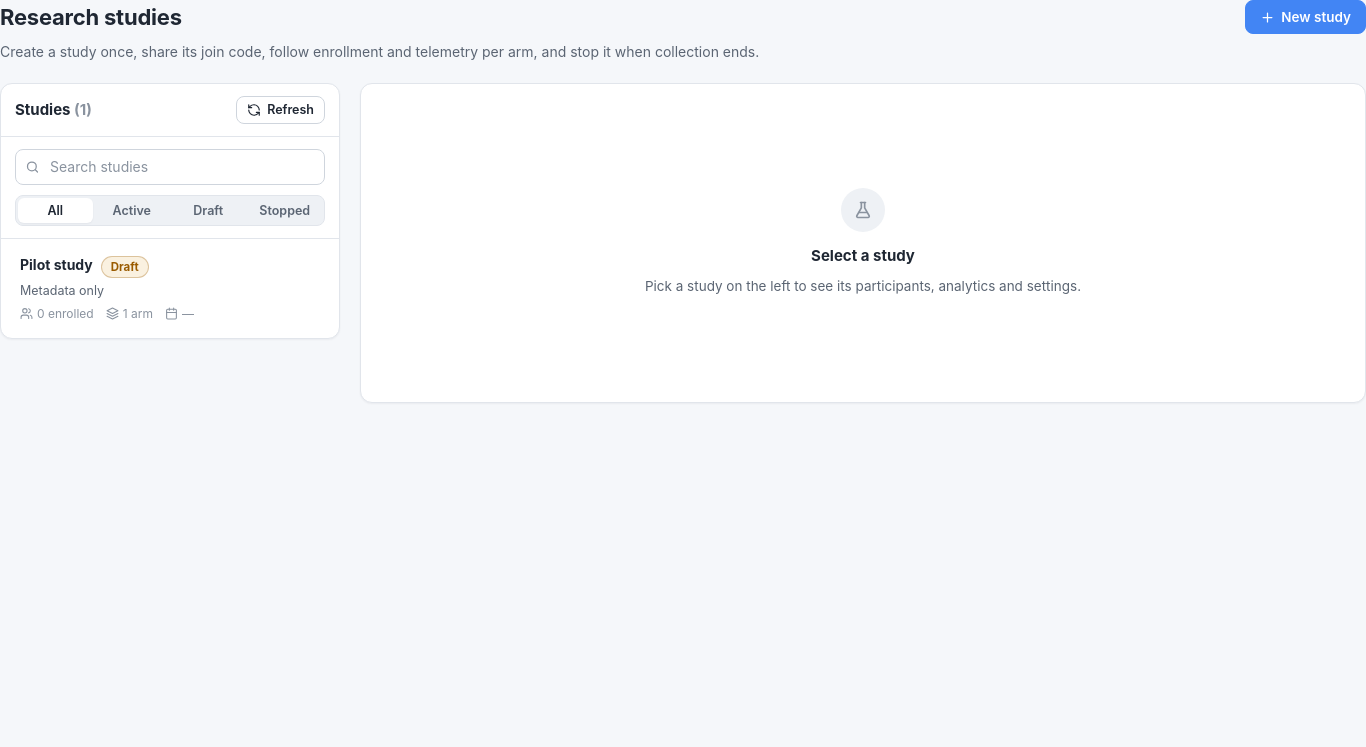
Test case: an arm filter that matches nobody still names the arm
Click the text "Pilot study" at (56, 265), box [20, 256, 93, 275]
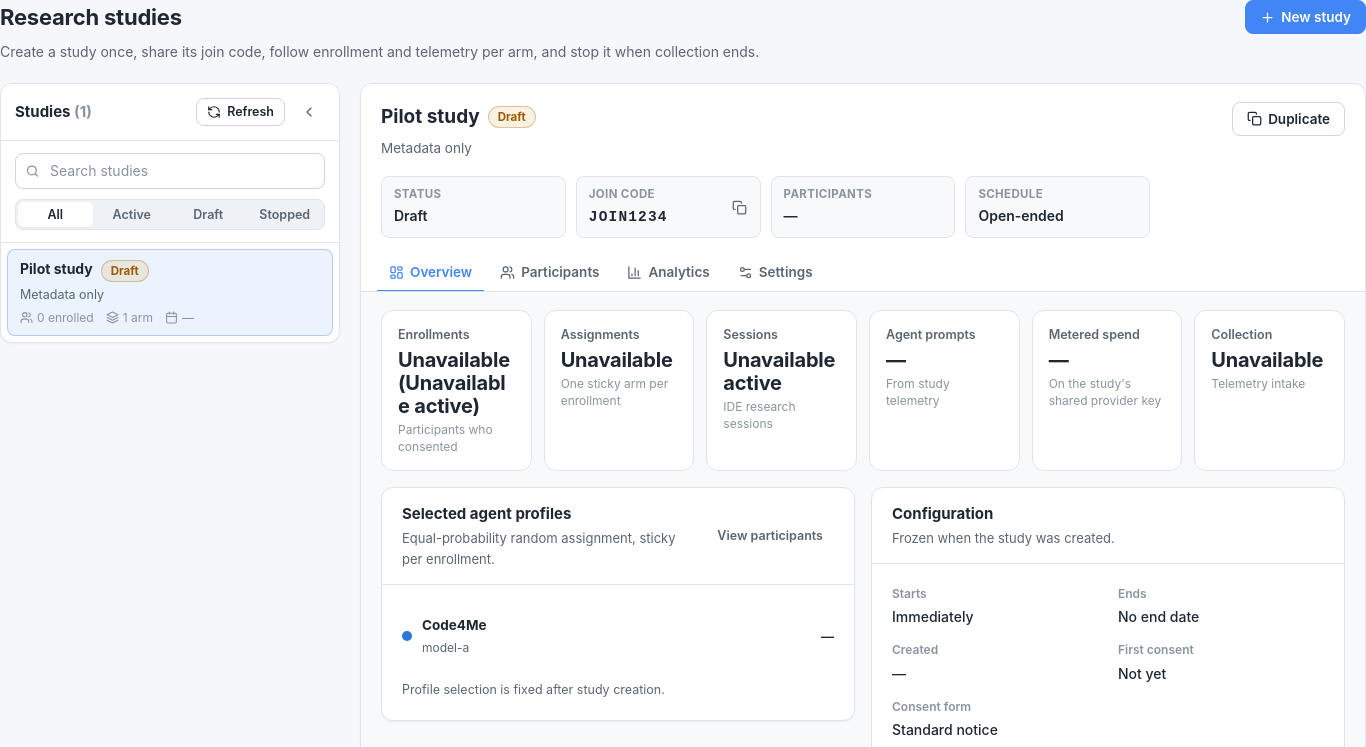
Click the tab "Analytics" at (669, 273), box [616, 254, 722, 292]
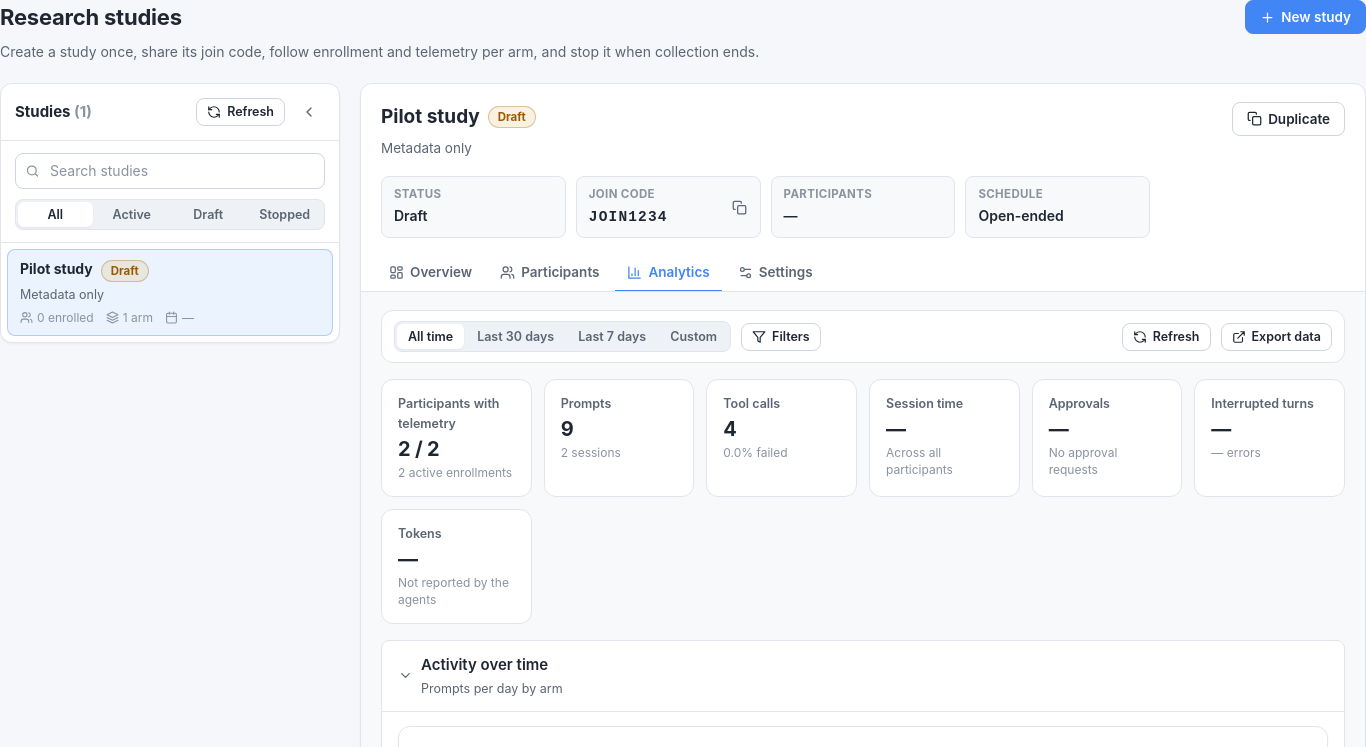
Click the heading "Filters" at (781, 337), box [741, 323, 821, 351]
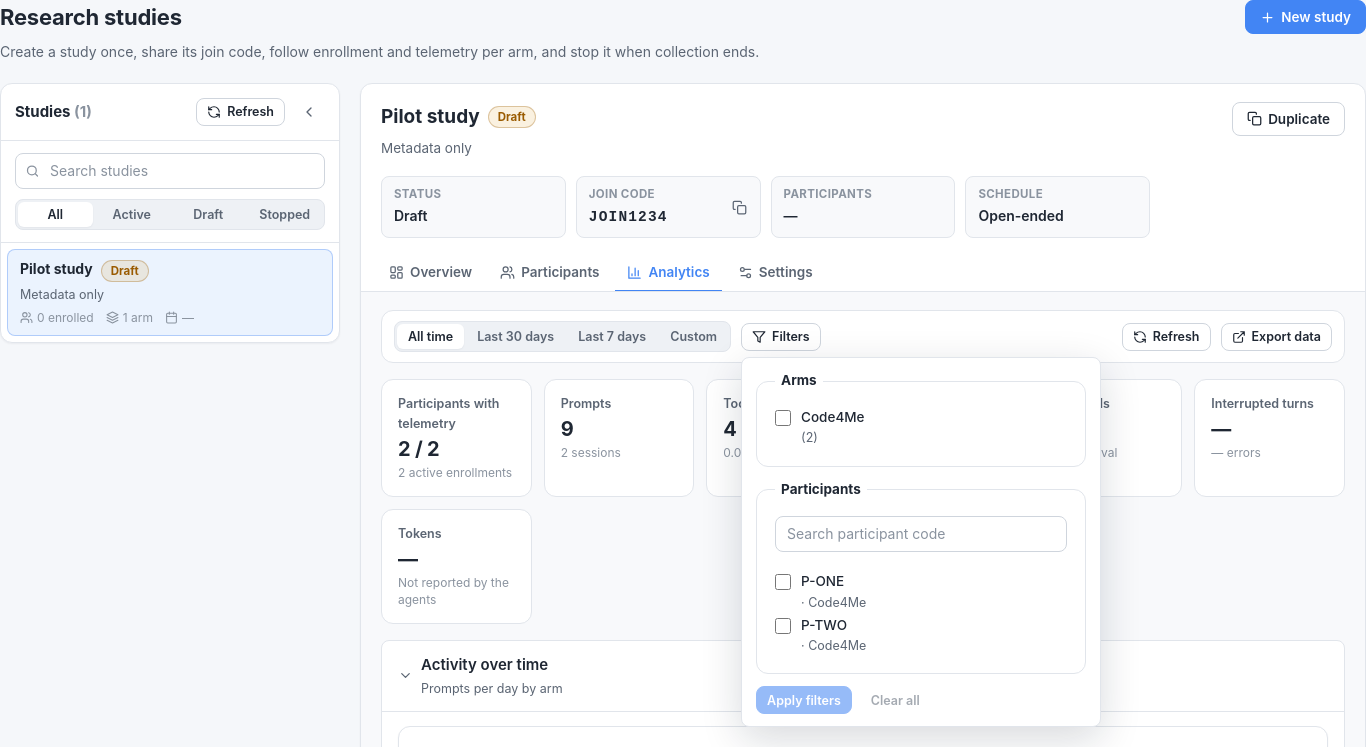
Click the checkbox labelled "Code4Me (2)" at (783, 418), box [775, 410, 791, 426]
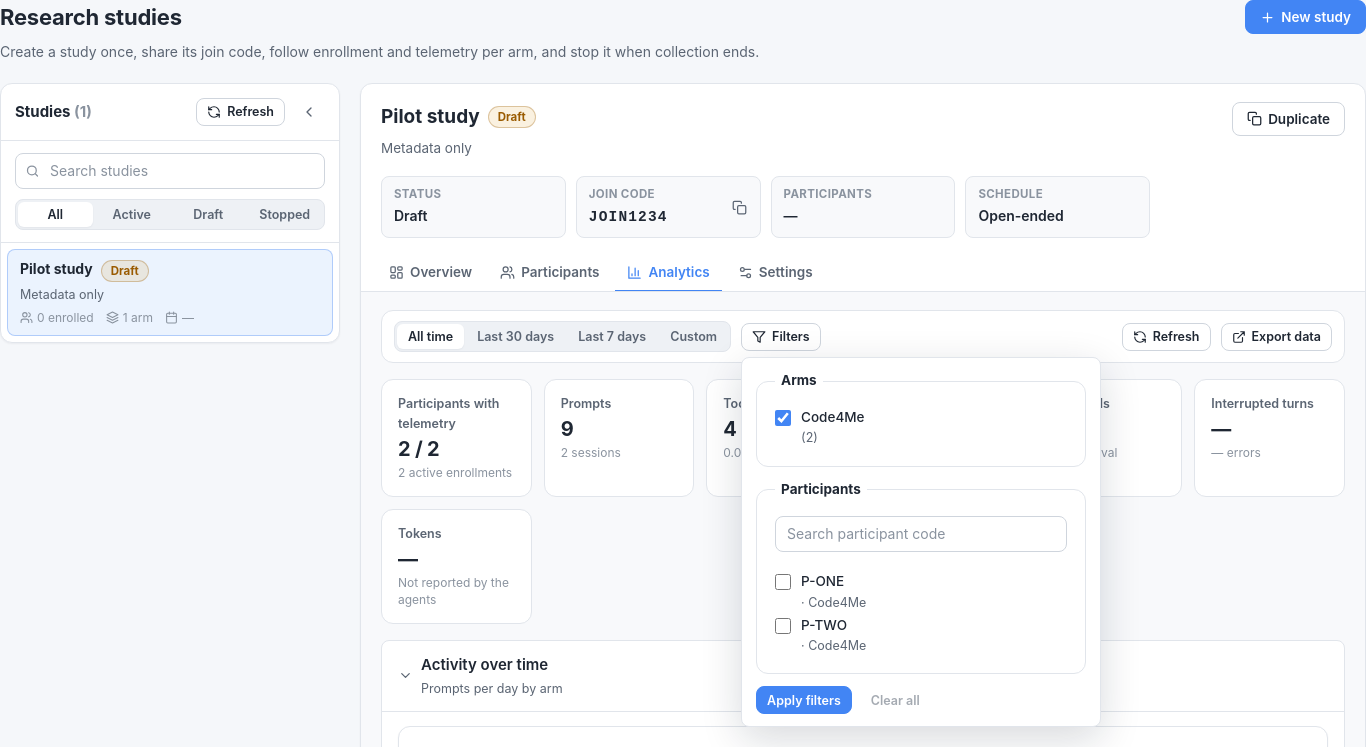
Click the button "Apply filters" at (804, 700), box [756, 686, 852, 714]
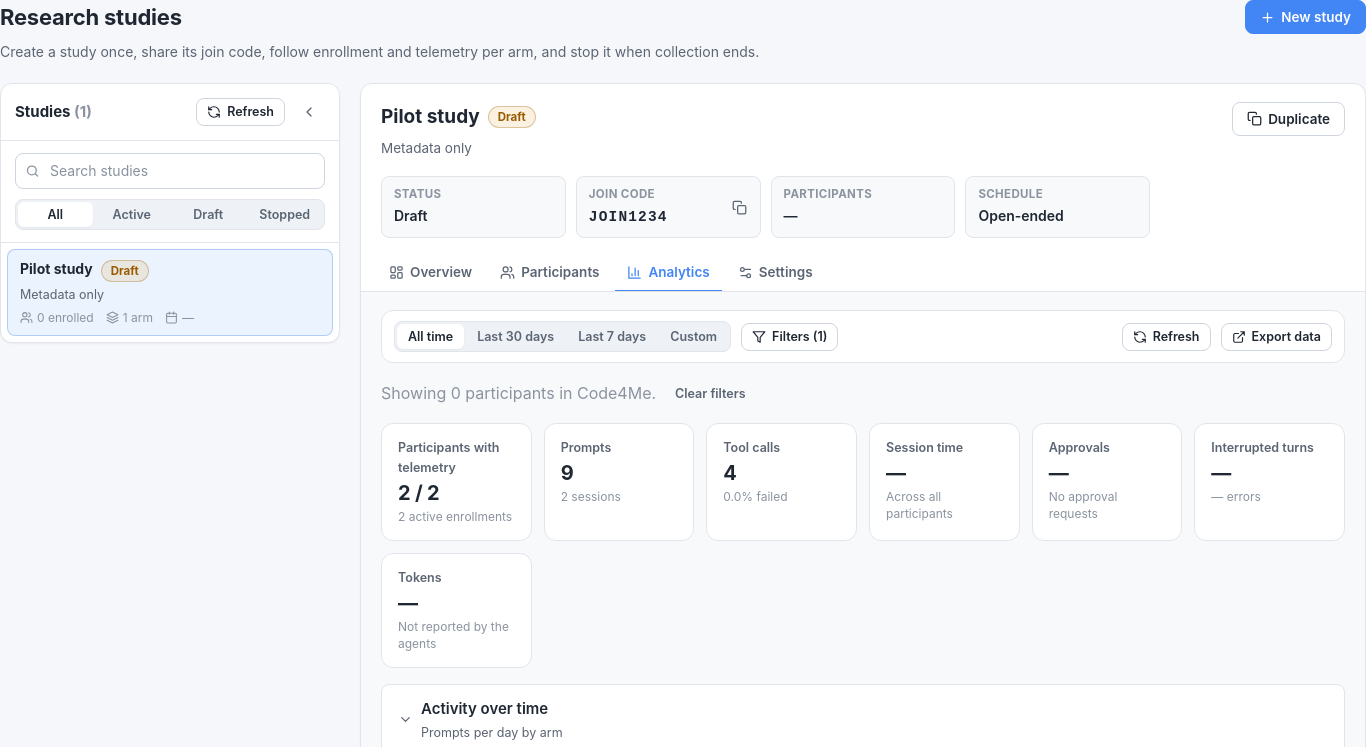
Check: the text "Showing 0 participants in Code4Me." is shown, box [381, 381, 656, 406]
